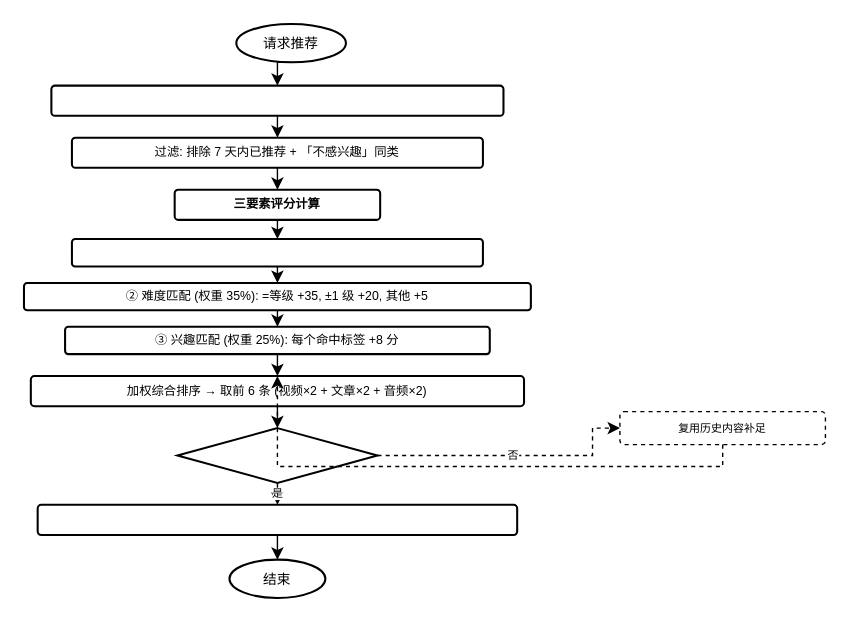
Image size: 851x623. Some labels were removed from this diagram. Here are the shapes that lost their labels. From the top down, the centre of each, then its label:
(277,100): 获取 level_final + interests + 短板维度 + 7天已推荐列表
(276,252): ① 短板匹配 (权重 40%): 每个命中维度 +10 分
(277,454): ≥4 条?
(277,519): 返回推荐结果 (6条资料 + 类型/标题/URL/CEFR/时长/评分)
